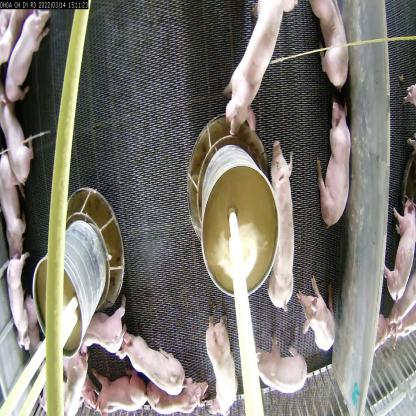Pig: (223, 2, 292, 142), (262, 134, 306, 302), (114, 322, 190, 400), (311, 102, 353, 240), (1, 4, 52, 107), (306, 0, 356, 101), (200, 316, 244, 415), (72, 291, 129, 363), (1, 247, 37, 352), (252, 330, 310, 394), (296, 278, 338, 361), (94, 360, 150, 415), (0, 96, 32, 190), (145, 373, 212, 415), (0, 158, 27, 259), (58, 340, 92, 416)
